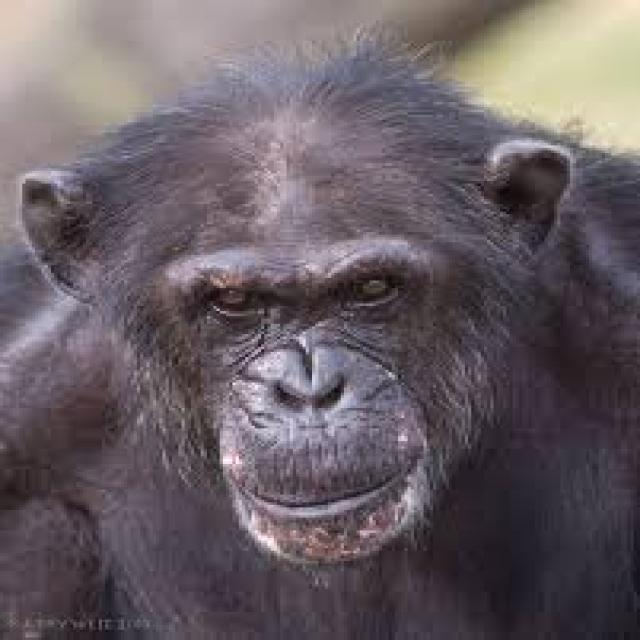Chimpanzee: (8, 47, 640, 640)
